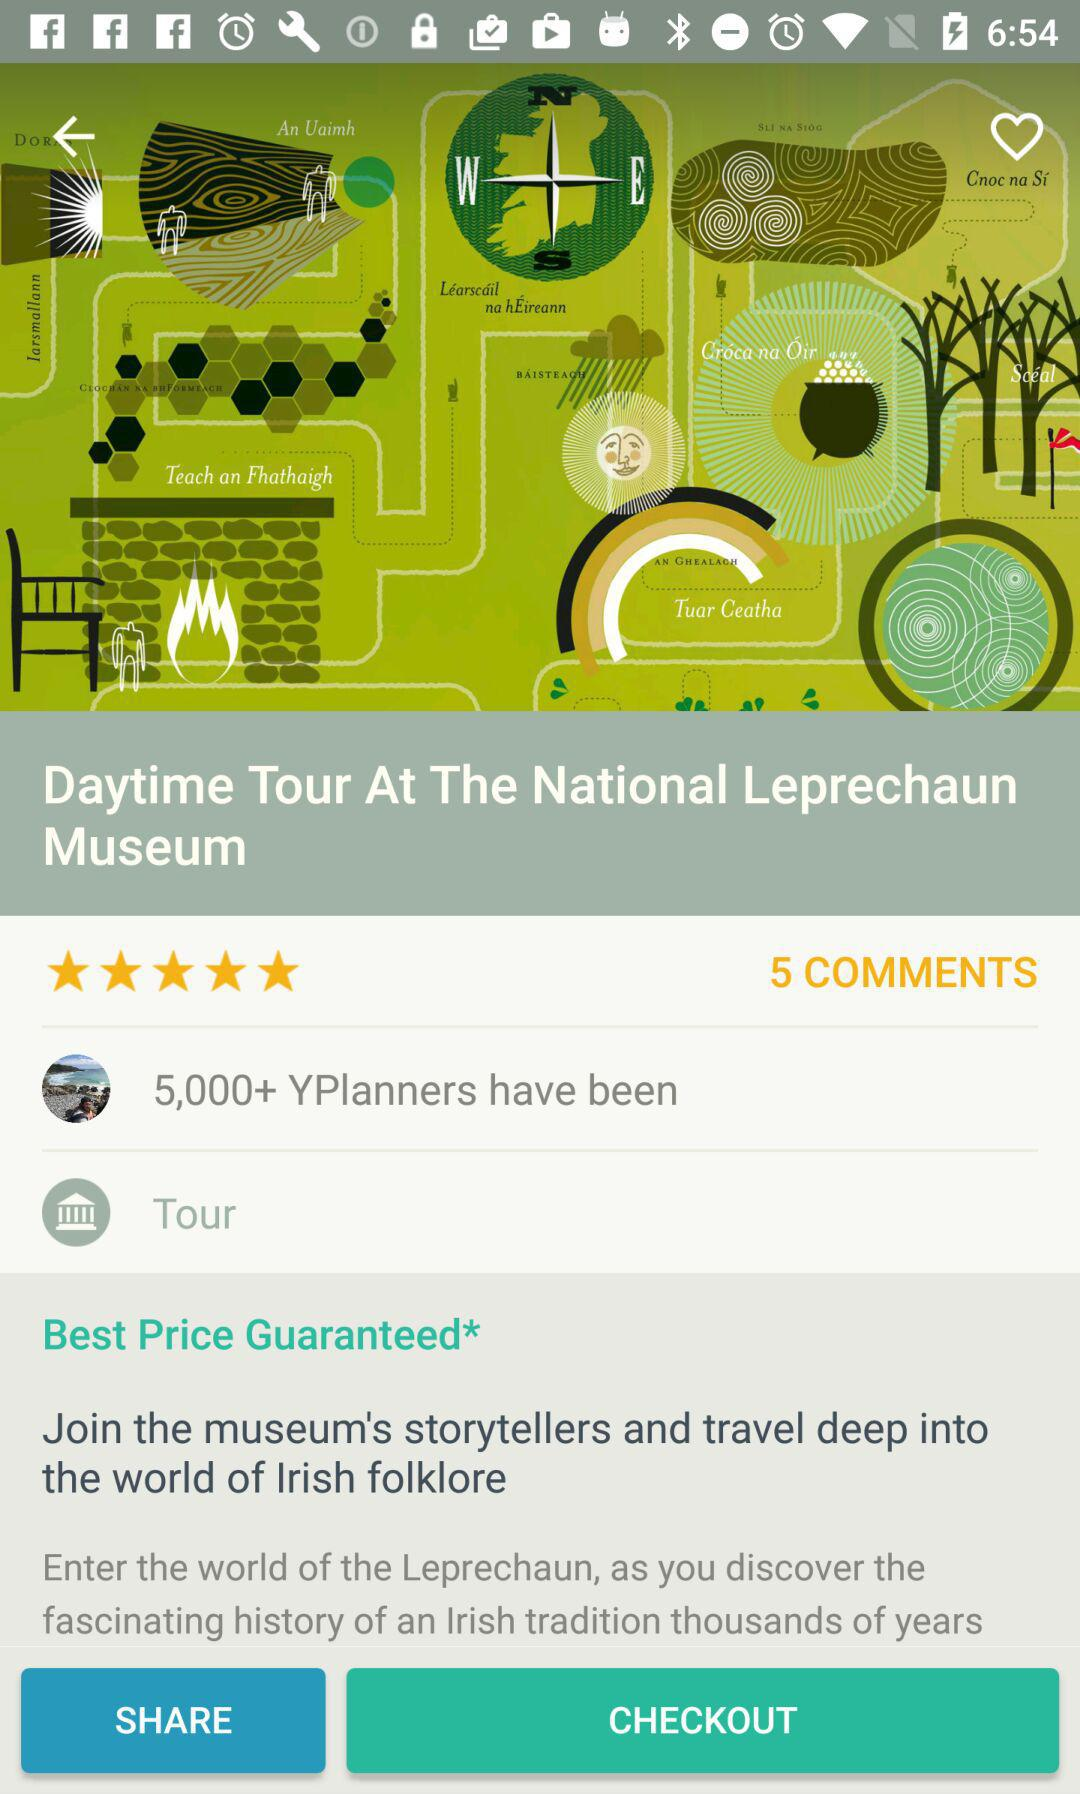Icon: (47, 950, 301, 993), (42, 1178, 111, 1249), (990, 113, 1044, 163), (53, 115, 96, 159)
Image: (1, 64, 1080, 711), (41, 1055, 113, 1124)
Text: (45, 762, 1017, 868), (44, 1552, 983, 1642), (44, 1411, 989, 1495), (155, 1071, 678, 1112), (45, 1319, 482, 1352), (770, 956, 1038, 991), (152, 1198, 240, 1231)
TextButton: (346, 1667, 1060, 1773), (20, 1667, 328, 1773)
UpperTaskBar: (1, 1, 1080, 64)
